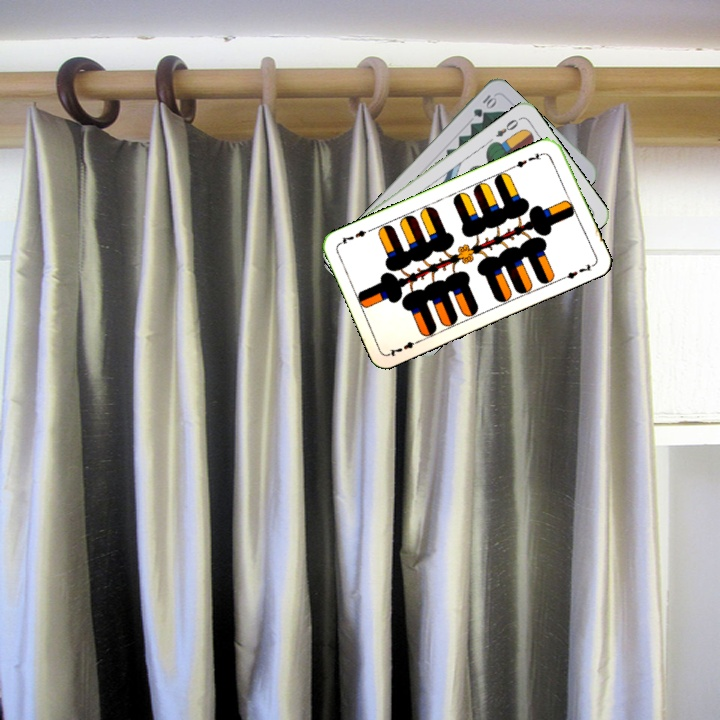E7: (385, 335, 423, 359), (509, 149, 547, 171)
EO: (492, 114, 523, 140)
G10: (469, 91, 499, 120)
